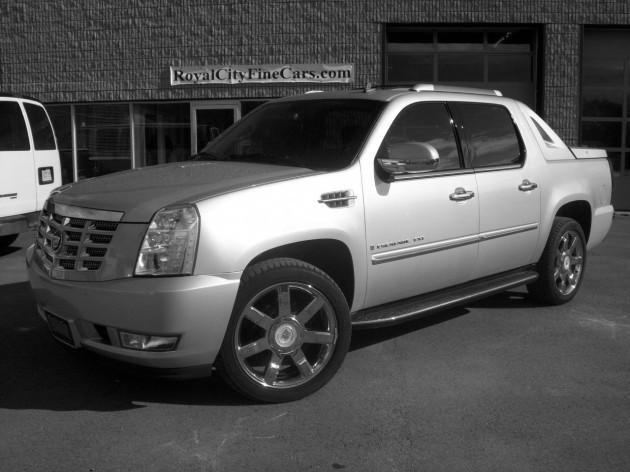car: (10, 41, 628, 410)
